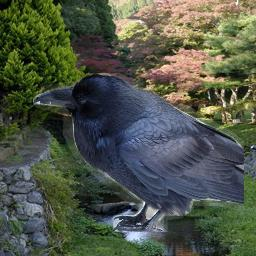Crow: (33, 73, 244, 232)
